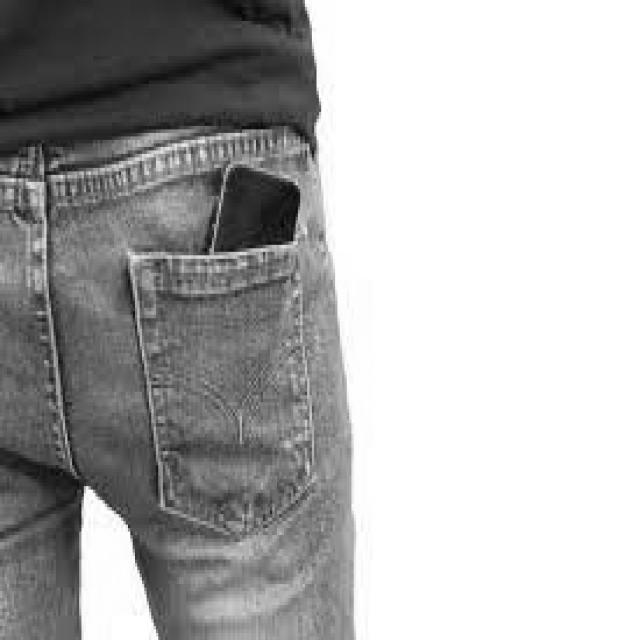No gun_phone: (210, 163, 300, 259)
